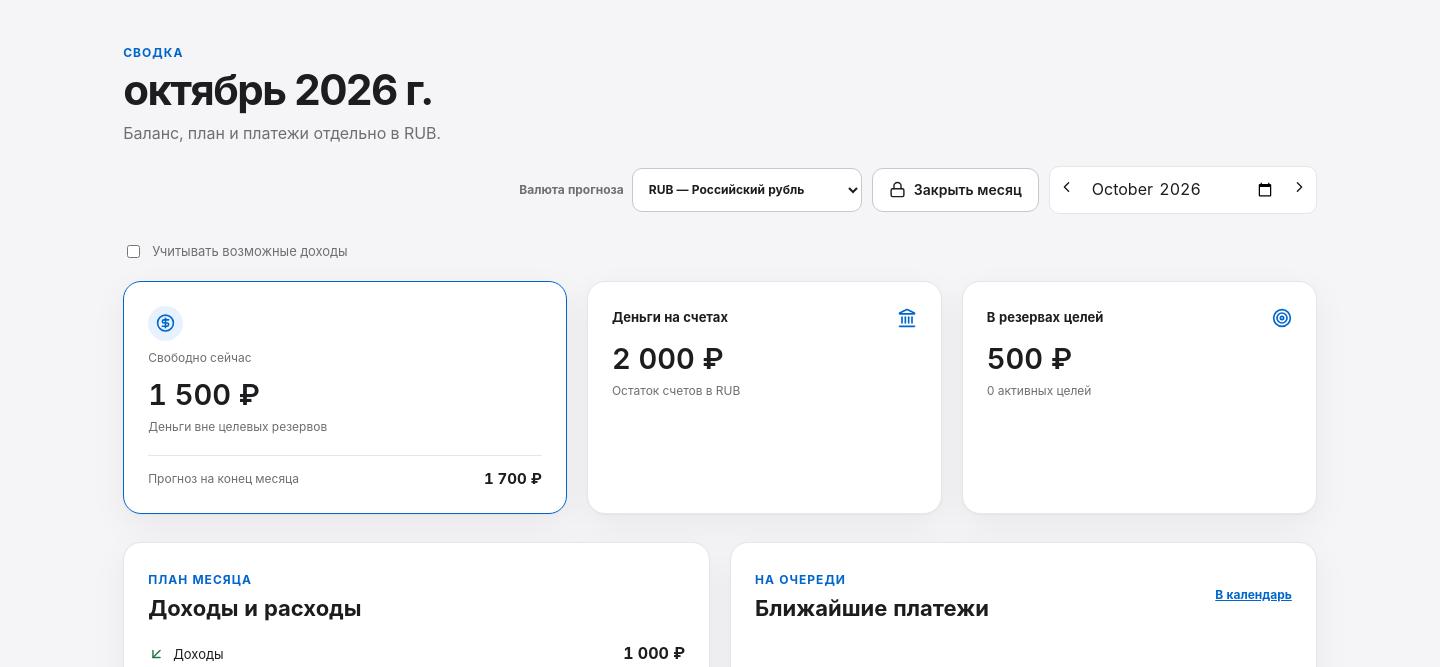
dashboard month closing › closes and reopens the currently selected month after confirmed server responses
Click the button "Закрыть месяц".
click(955, 190)  # box [872,168,1039,212]
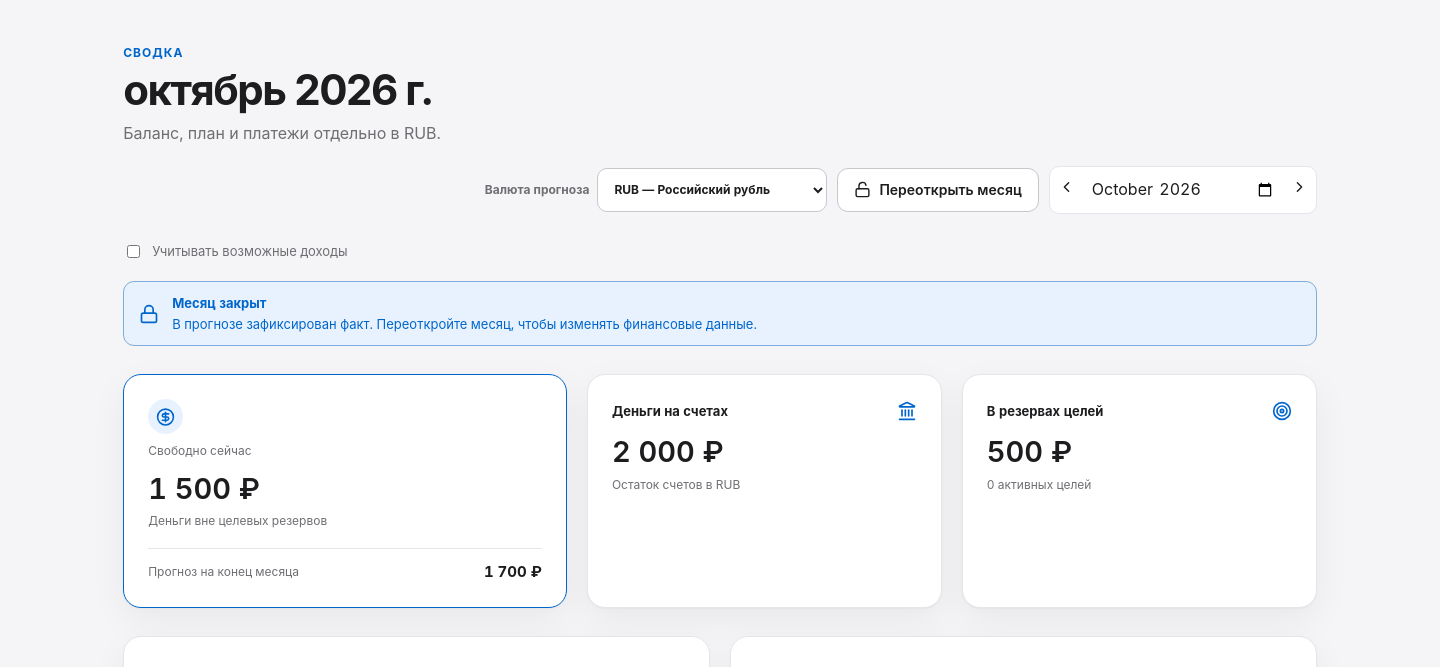
Result: the text "Месяц закрыт" is shown at [172,295,266,311]
Click the button "Переоткрыть месяц".
click(938, 190)  # box [837,168,1039,212]
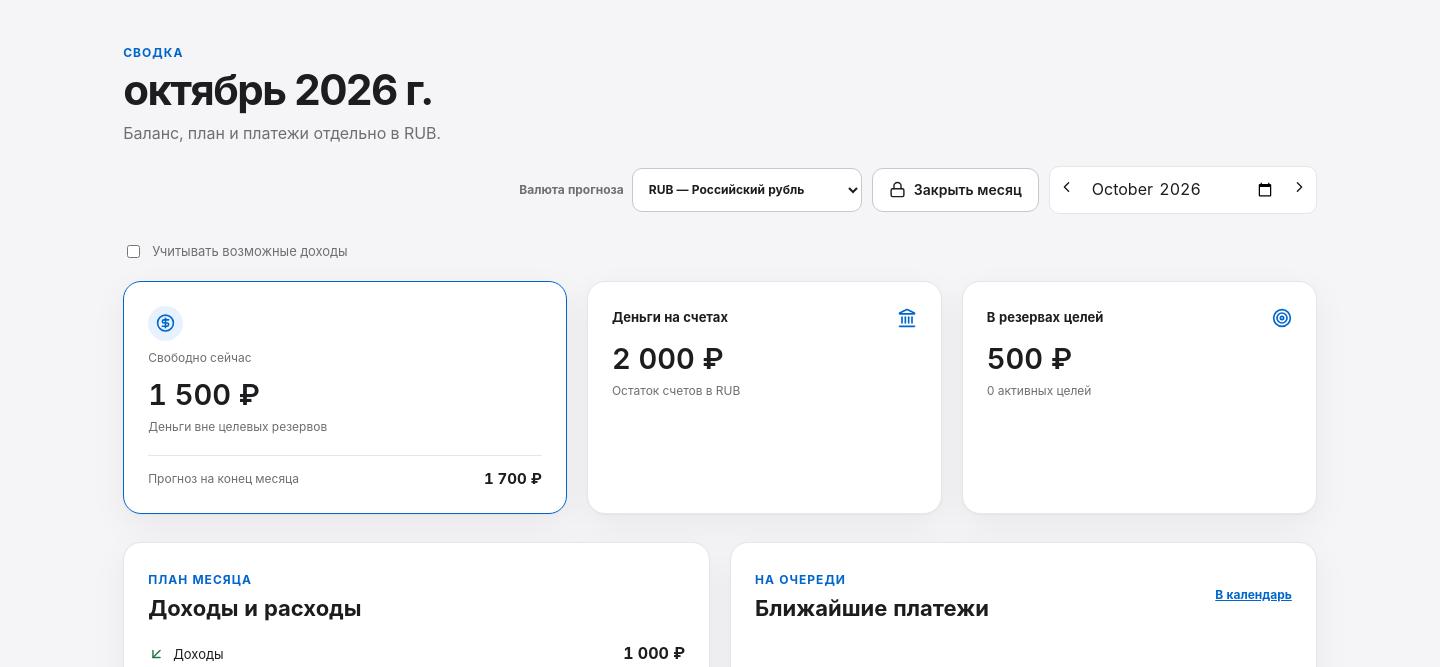
Result: the button "Закрыть месяц" is shown at [872,168,1039,212]
